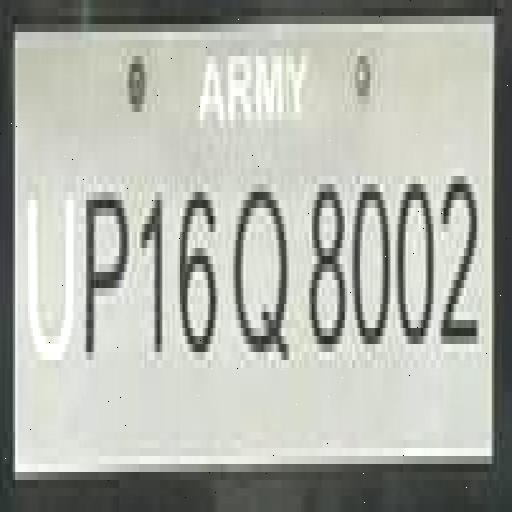number plate: (0, 18, 494, 482)
